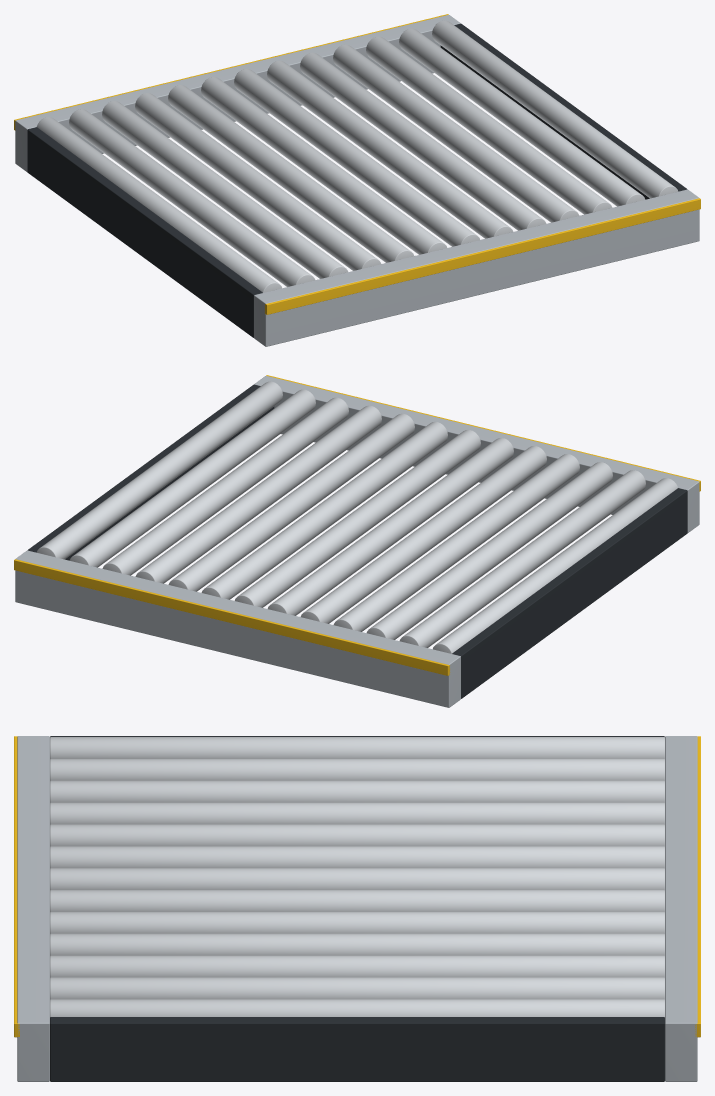
The model's file is SM_PalletLift_Carrier.fbx.
3 views of the same model, one above another, from view 1: azimuth 30°, elevation 25°; view 2: azimuth 150°, elevation 25°; view 3: azimuth 270°, elevation 25° (orthographic). The views are drawn at different scales.
Parts seen in each view (by area): view 1: SM_PalletLift_Carrier; view 2: SM_PalletLift_Carrier; view 3: SM_PalletLift_Carrier.
Part boxes in pixels (bbox=[...]): SM_PalletLift_Carrier: bbox=[14, 14, 700, 346]; SM_PalletLift_Carrier: bbox=[14, 375, 700, 707]; SM_PalletLift_Carrier: bbox=[14, 736, 700, 1081].
Size of what is drawn, in the model's own units: 1.25 by 1.26 by 0.14.
